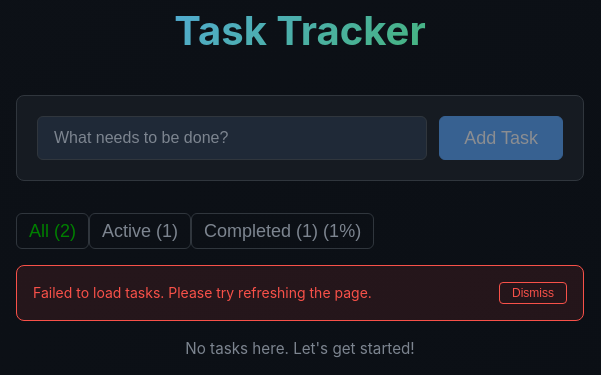
Test: App Component › Error Handling › allows dismissing error message
Expected: the text "Failed to load tasks. Please try refreshing the page." is shown, 33,282 -> 372,304
Click the button "Dismiss": (533, 293) 499,282 -> 567,304
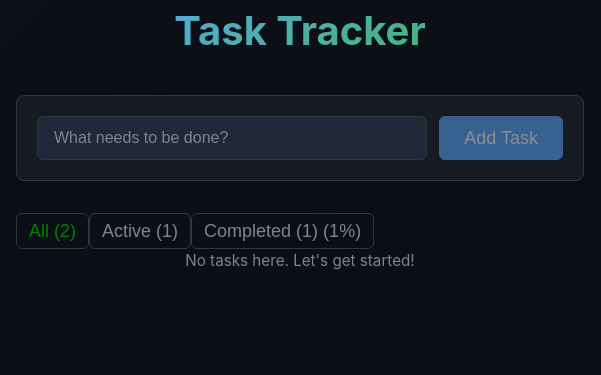
Expected: the text "Failed to load tasks" is gone
